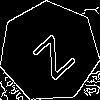Z: (24, 27, 77, 81)
